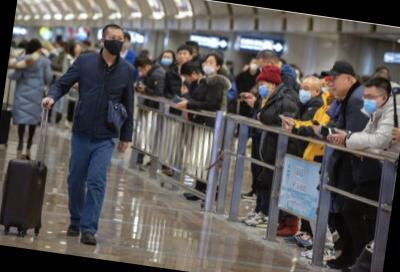mask_weared_incorrect: (203, 57, 218, 76)
with_mask: (360, 89, 383, 115), (103, 32, 126, 55), (298, 83, 314, 104), (257, 80, 272, 98), (160, 53, 174, 67), (249, 59, 259, 71)
without_mask: (328, 74, 350, 97), (176, 49, 191, 65), (182, 73, 197, 85), (138, 67, 150, 77)
